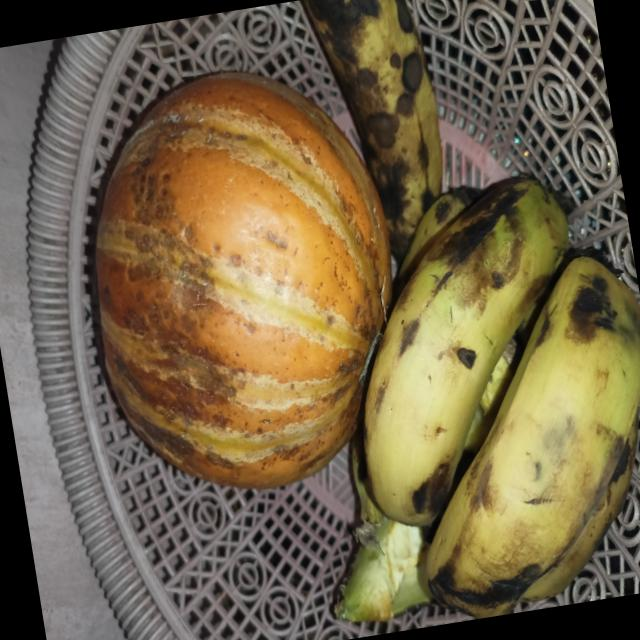banana_peel: (324, 0, 640, 620)
